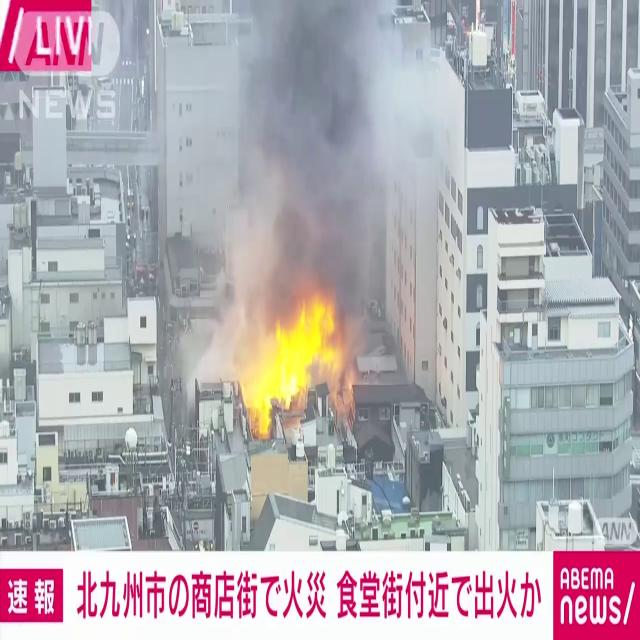Fire: (237, 289, 356, 431)
Smoke: (202, 1, 440, 311)
